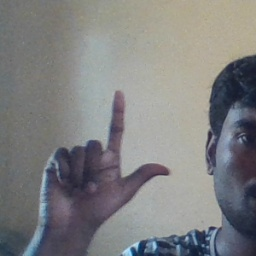L: (36, 90, 171, 224)
